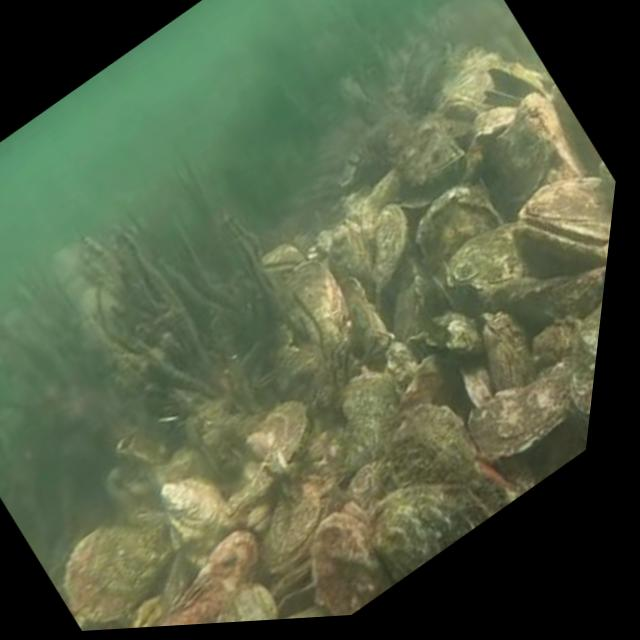Oyster-Closed: (438, 96, 492, 119)
Oyster-Indeterminate: (351, 400, 478, 522), (364, 481, 495, 583), (68, 510, 174, 623), (421, 194, 499, 320), (468, 369, 574, 456), (311, 514, 400, 616), (169, 532, 263, 626), (494, 265, 606, 335), (159, 475, 233, 567), (489, 104, 546, 214), (281, 256, 350, 345), (447, 220, 529, 294), (517, 176, 613, 236), (340, 372, 398, 469), (262, 487, 323, 578), (337, 272, 395, 360), (398, 114, 464, 191), (514, 223, 603, 280), (479, 305, 535, 394), (244, 401, 312, 473), (331, 219, 379, 307), (567, 297, 603, 411), (373, 198, 412, 289), (437, 52, 496, 111), (362, 164, 401, 244), (216, 581, 280, 623)
Oyster-Open: (482, 59, 550, 108), (270, 559, 321, 615)
